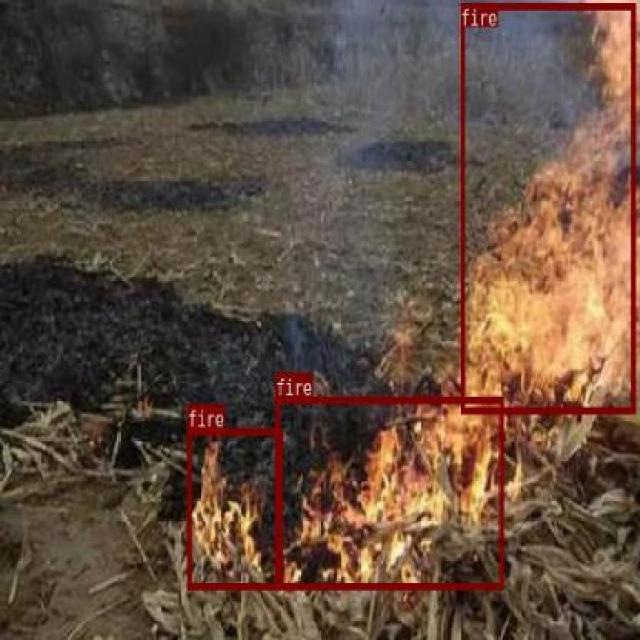fire: (460, 2, 634, 413), (274, 397, 502, 588), (187, 426, 281, 588)
